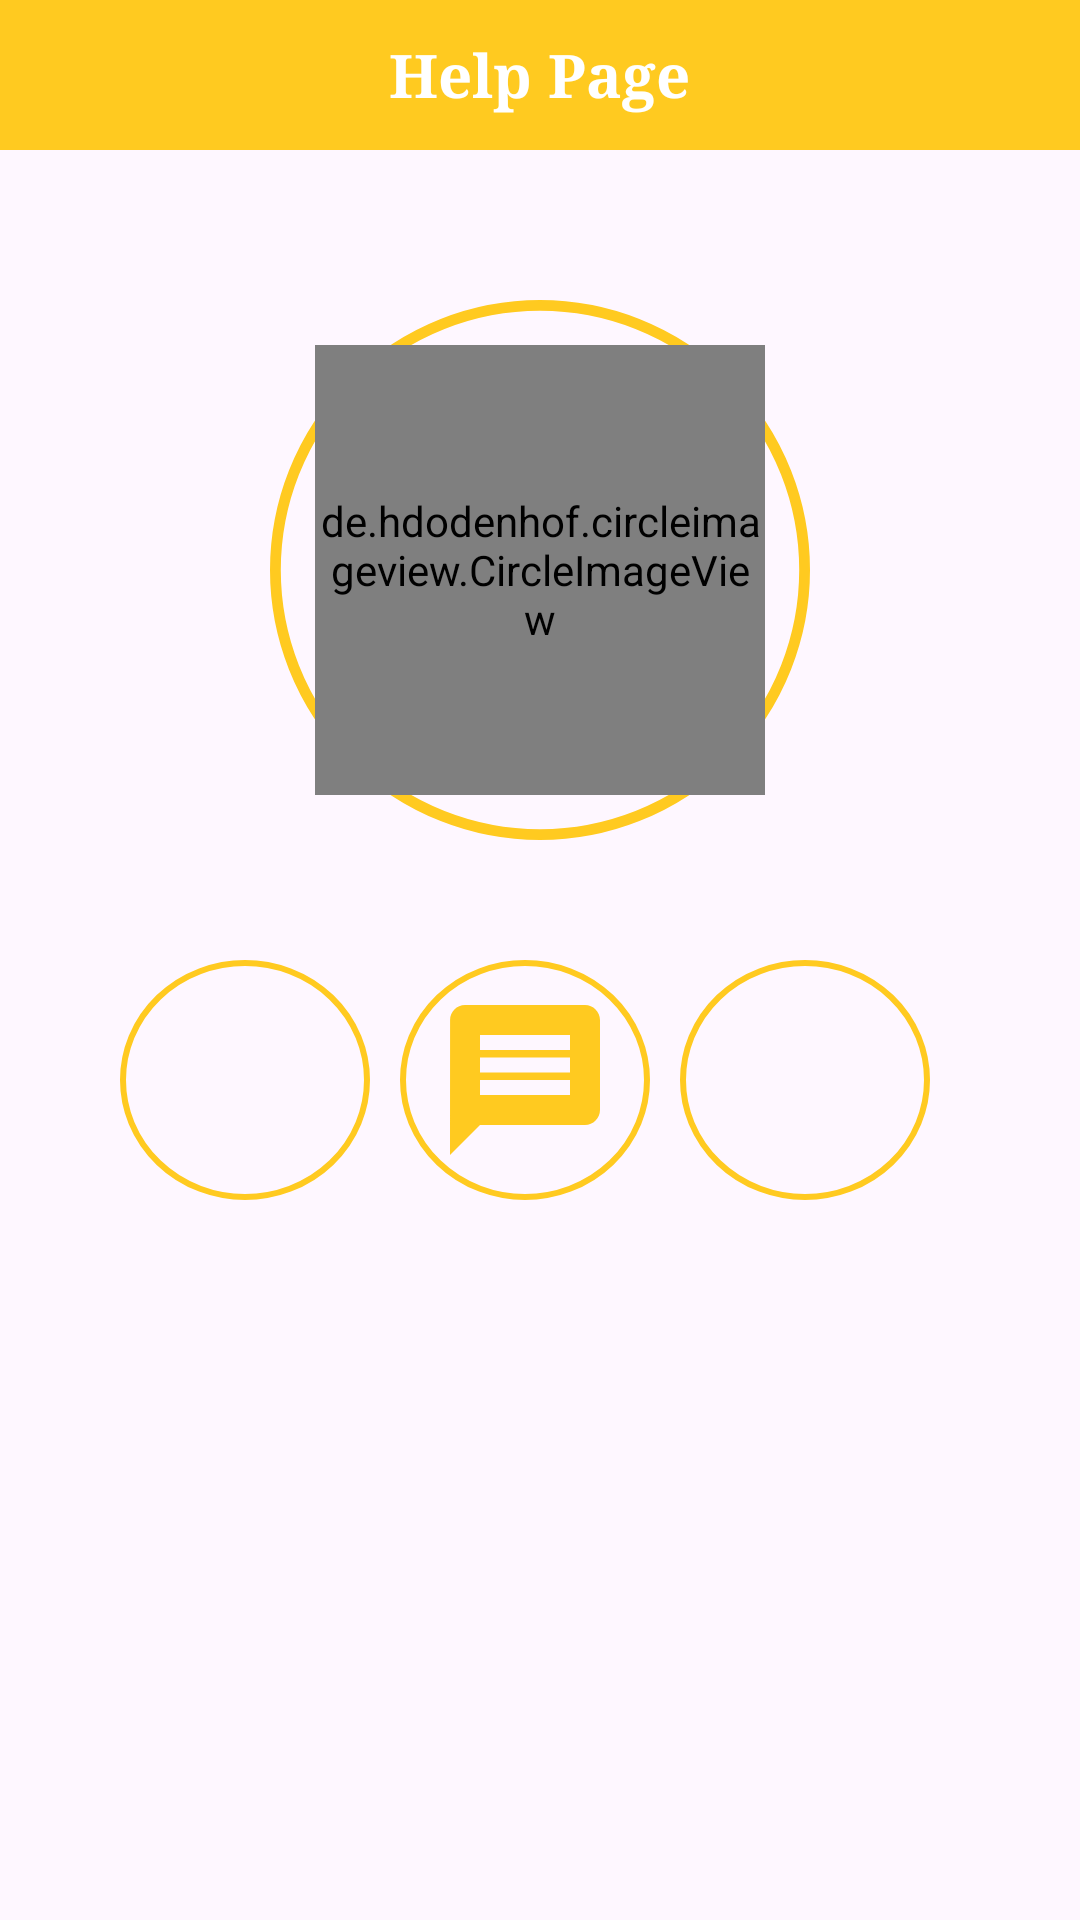

Screen size 1080x1920. Icon name, then its box in pixels as (x1, y1, x2, y2):
message: (400, 960, 650, 1200)
